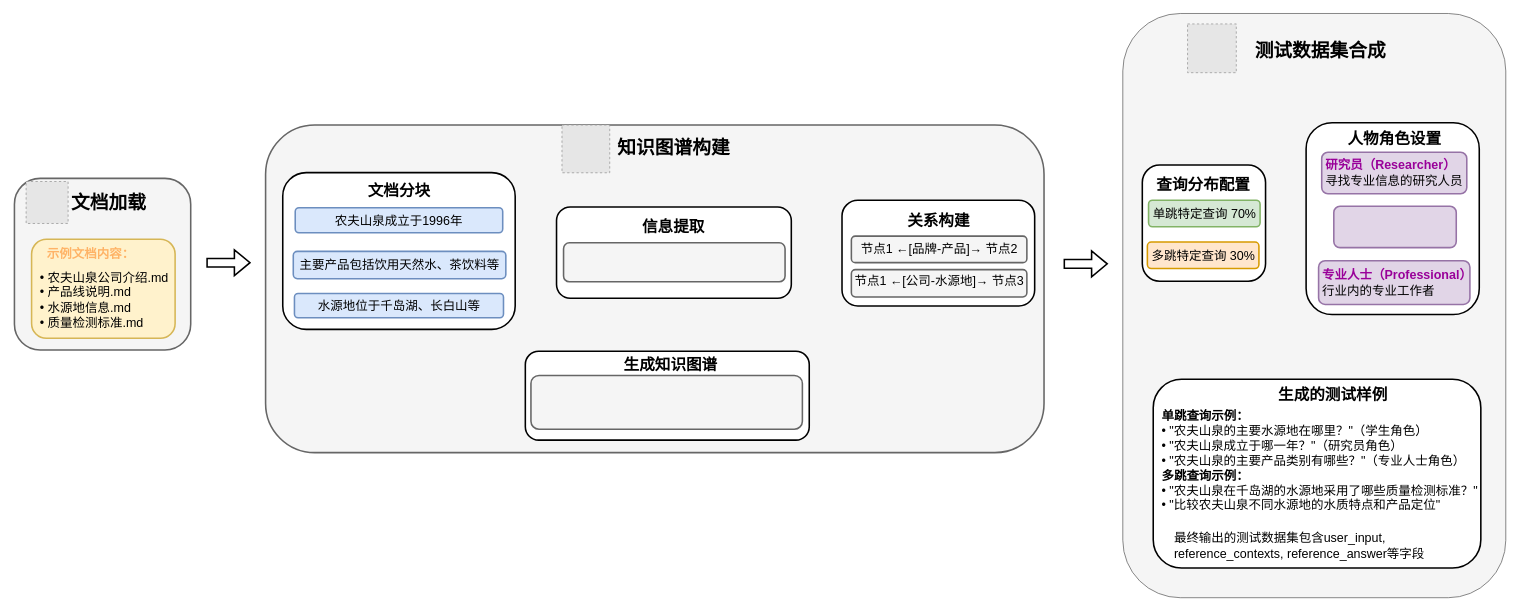
Image size: 1519x612. Some labels were removed from this diagram. Grey dashed boxes stand in for pictures. Each missing label, with the box of its shape:
'ORG': ['农夫山泉'], 'LOC': ['千岛湖', '长白山'], 'MISC': ['饮用天然水', '茶饮料'] }: (562, 242, 785, 282)
KnowledgeGraph(nodes: 48, relationships: 605) 包含：公司信息节点、产品节点、水源地节点、质量标准节点等: (530, 374, 803, 430)
学生（Student） 学习相关主题的学生: (1333, 205, 1457, 248)
